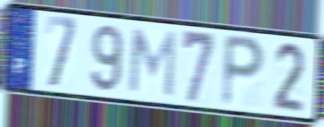2: (273, 41, 308, 115)
7: (181, 27, 217, 106), (44, 13, 77, 93)
9: (88, 22, 126, 94)
M: (126, 27, 179, 101)
P: (219, 31, 268, 110)
